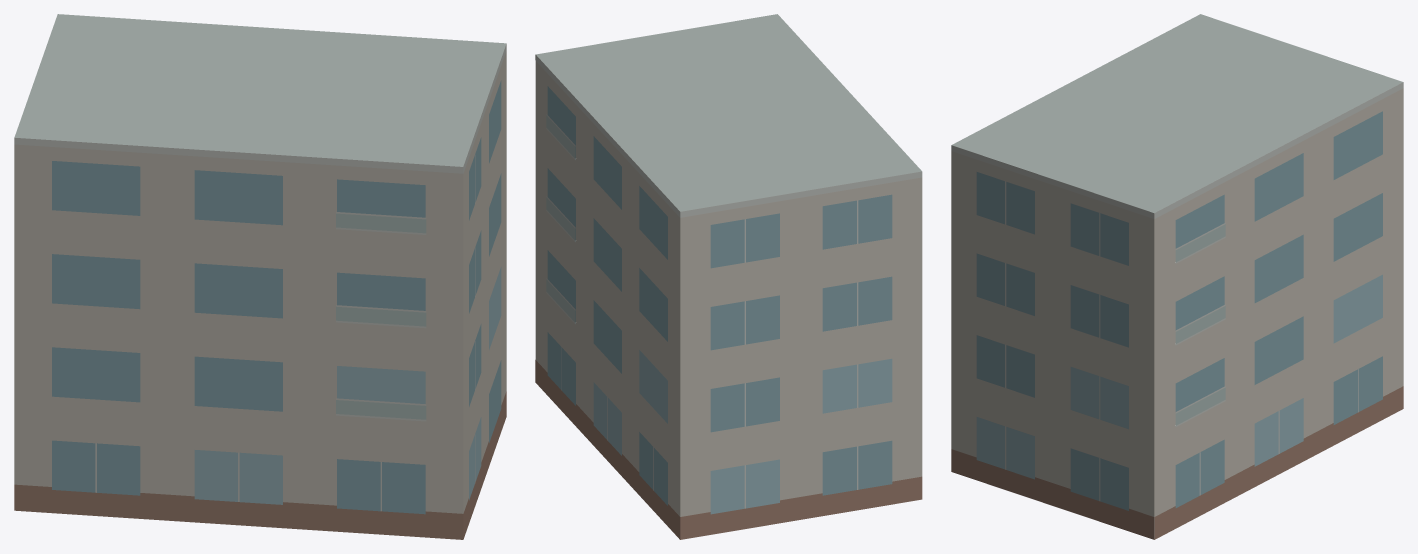
File: survey-upis-32937031.glb
3 views of the same model, side by side, from view 1: azimuth 30°, elevation 25°; view 2: azimuth 150°, elevation 25°; view 3: azimuth 270°, elevation 25° (orthographic). The views are drawn at different scales.
Parts seen in each view (by area): view 1: survey-upis-32937031.tmp; view 2: survey-upis-32937031.tmp; view 3: survey-upis-32937031.tmp.
Boxes of the visible parts, bbox=[...] form: survey-upis-32937031.tmp: bbox=[14, 14, 506, 539]; survey-upis-32937031.tmp: bbox=[535, 14, 922, 539]; survey-upis-32937031.tmp: bbox=[951, 14, 1403, 539].
Size of the model in its own units: 17.53 by 13.4 by 16.82.
